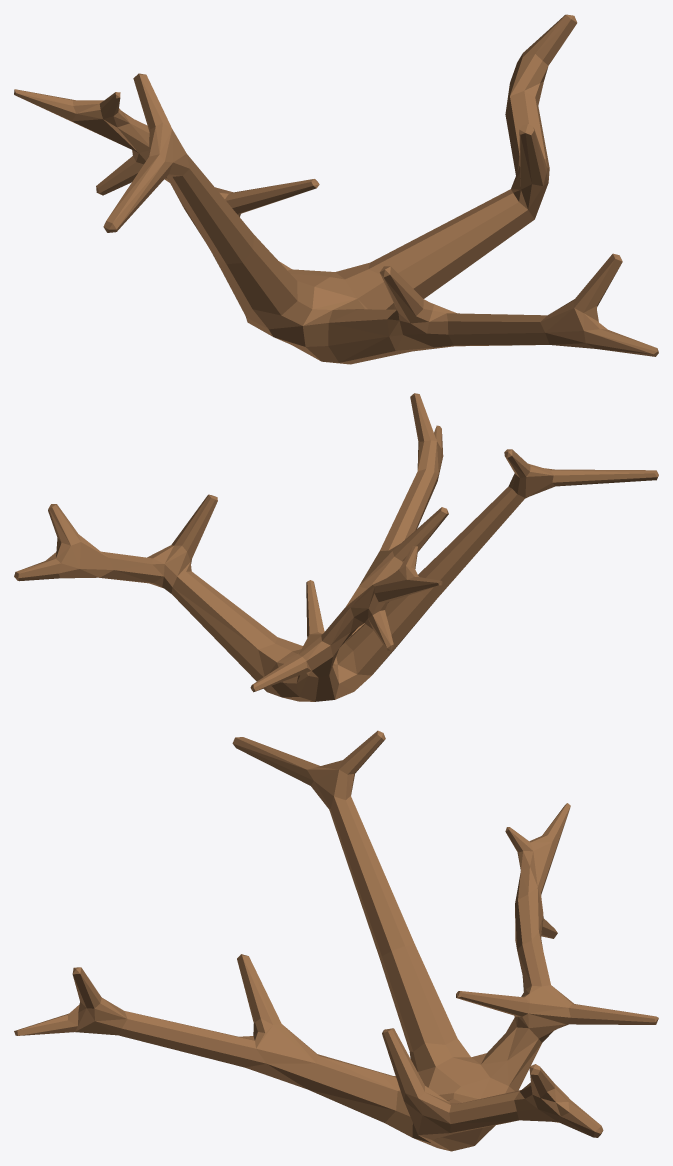
File: Bush_7 Withered.fbx
3 renders of one model, top to bottom at view 1: azimuth 30°, elevation 25°; view 2: azimuth 150°, elevation 25°; view 3: azimuth 270°, elevation 25°, orthographic. The views are drawn at different scales.
Visible parts, largest first — view 1: Bush7Withered_mesh; view 2: Bush7Withered_mesh; view 3: Bush7Withered_mesh.
Part boxes in pixels (bbox=[...]): Bush7Withered_mesh: bbox=[14, 14, 658, 364]; Bush7Withered_mesh: bbox=[14, 393, 658, 701]; Bush7Withered_mesh: bbox=[14, 730, 658, 1151].
Bounding box in the file's own units: 141 × 73.26 × 140.
